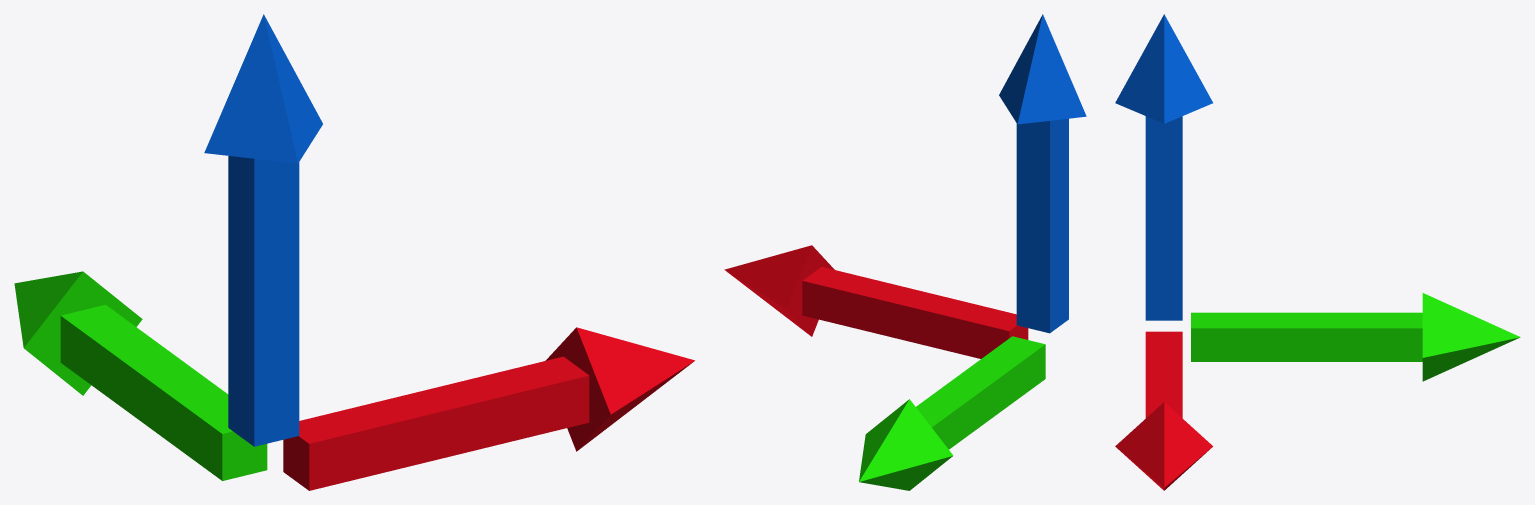
Rendered from Arrow.fbx.
The picture shows the model from 3 angles, left to right: view 1: azimuth 30°, elevation 25°; view 2: azimuth 150°, elevation 25°; view 3: azimuth 270°, elevation 25°; orthographic projection. The views are drawn at different scales.
Parts seen in each view (by area): view 1: Cone, Cone.002, Cone.001; view 2: Cone, Cone.002, Cone.001; view 3: Cone.001, Cone, Cone.002.
Part boxes in pixels (<box>): Cone: <box>204,14,322,446</box>; Cone.002: <box>283,327,694,490</box>; Cone.001: <box>14,271,267,480</box>; Cone: <box>999,14,1086,333</box>; Cone.002: <box>724,245,1028,358</box>; Cone.001: <box>859,336,1045,490</box>; Cone.001: <box>1191,293,1520,381</box>; Cone: <box>1115,14,1212,320</box>; Cone.002: <box>1115,331,1212,490</box>.
Bounding box in the file's own units: 82.54 × 82.54 × 82.54.
